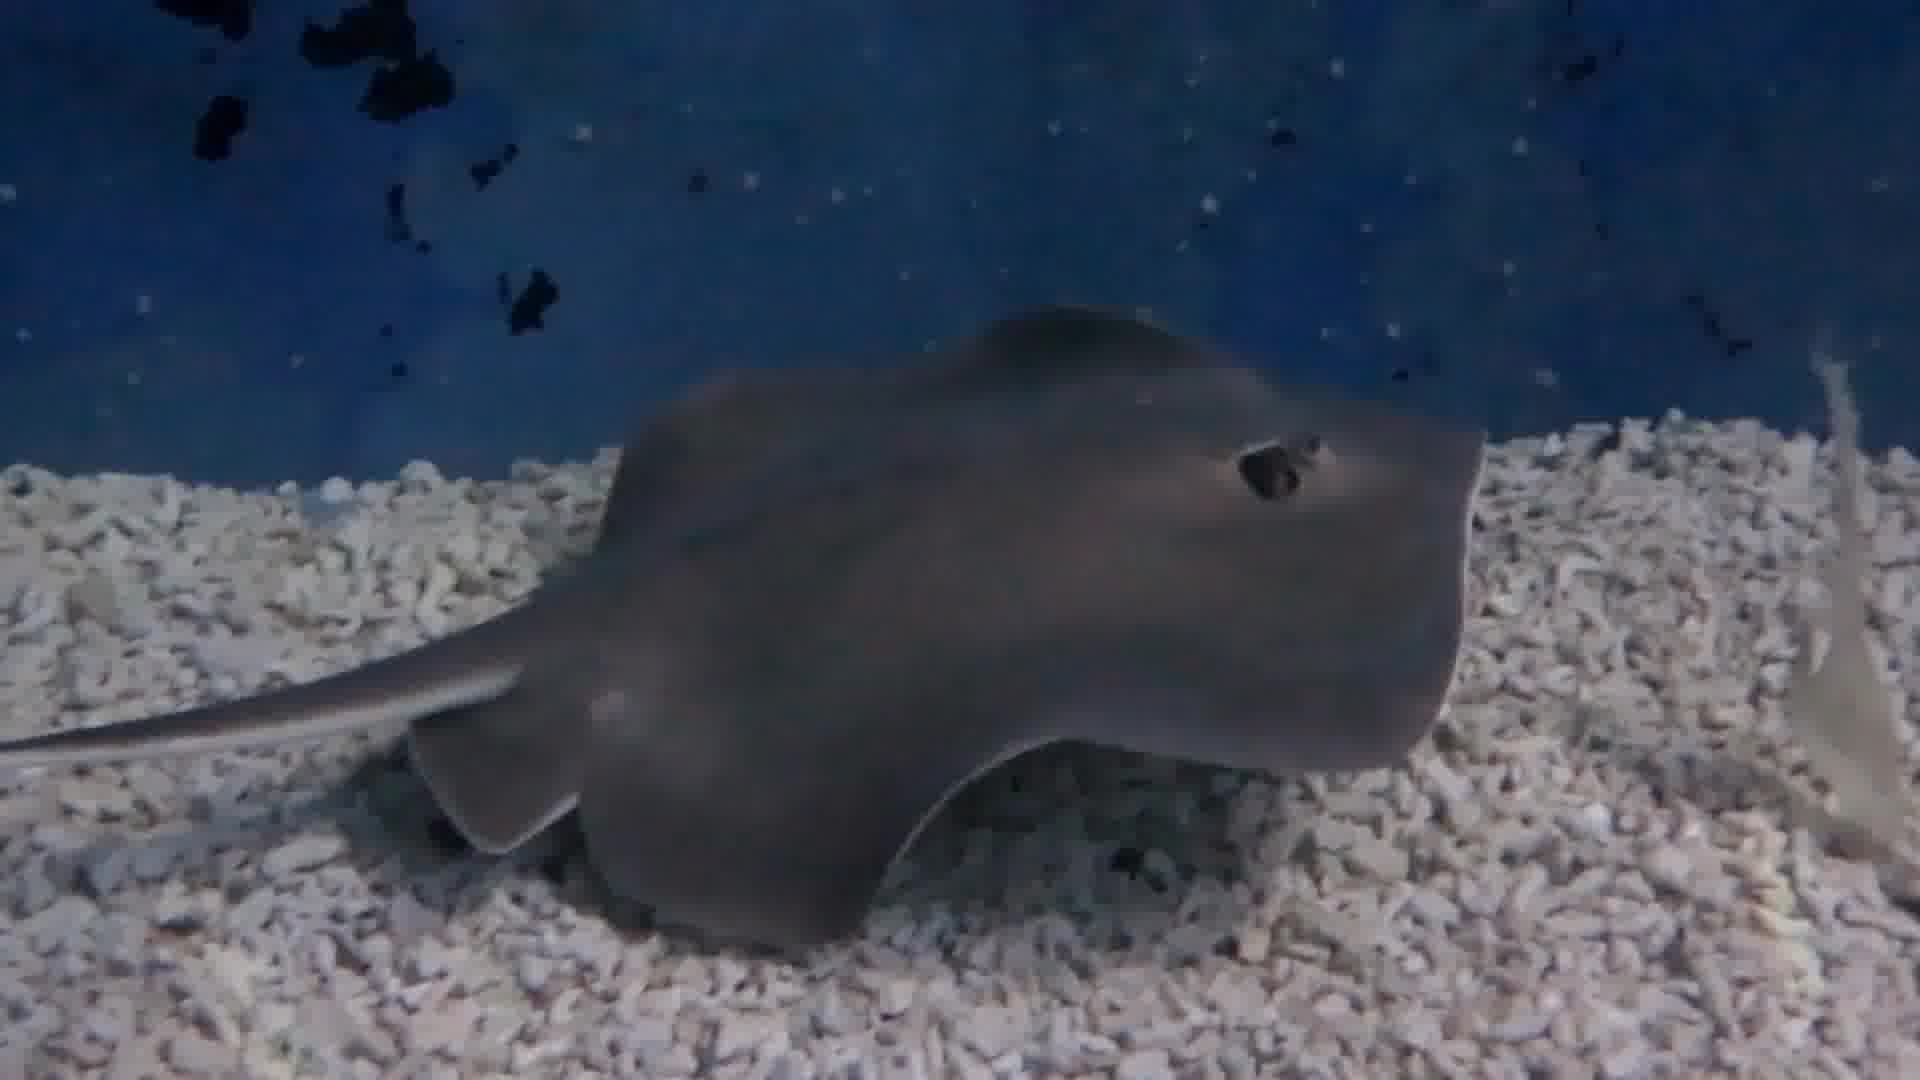Dasyatis bennetti: (265, 104, 1629, 955)
